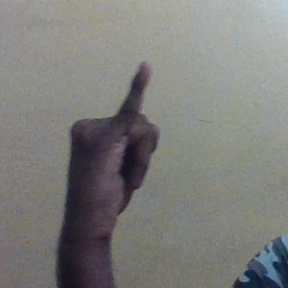I: (63, 56, 164, 231)
